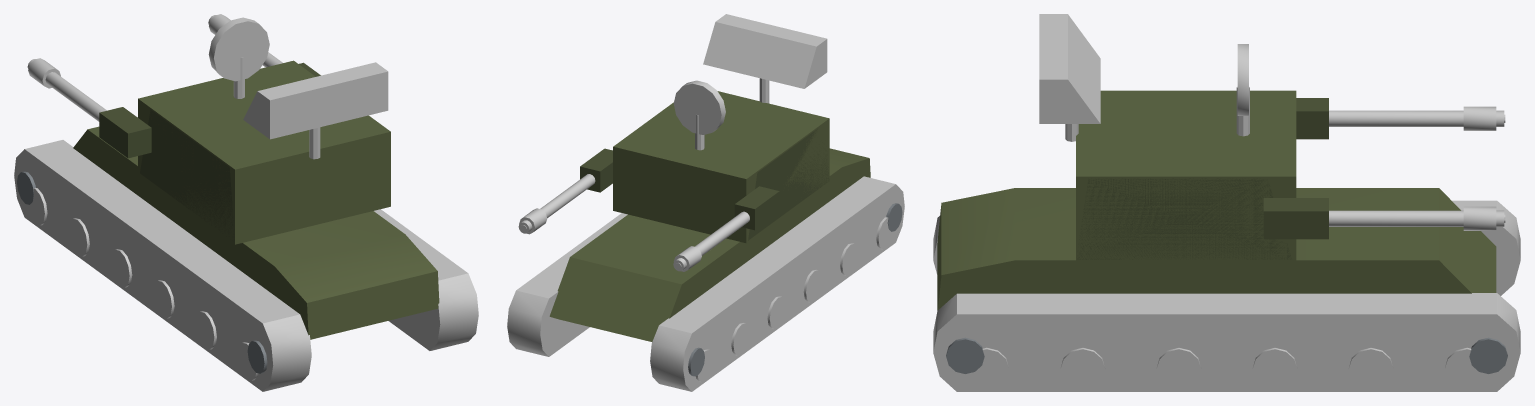
File: flakpanzer_gepard.obj
3 renders of one model, left to right at view 1: azimuth 30°, elevation 25°; view 2: azimuth 150°, elevation 25°; view 3: azimuth 270°, elevation 25°, orthographic. The views are drawn at different scales.
Visible parts, largest first — view 1: model; view 2: model; view 3: model.
Boxes of the visible parts, x1,y1,x2,y2 form: model: (14, 14, 478, 391); model: (507, 14, 904, 391); model: (933, 14, 1520, 391).
Size of the model in its own units: 3.39 by 3.9 by 7.2.
